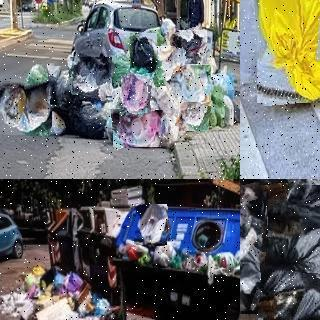Garbage: (254, 0, 320, 104), (266, 183, 320, 273), (253, 251, 320, 320), (240, 186, 269, 316), (0, 82, 53, 136), (68, 55, 114, 99), (112, 108, 162, 148), (67, 95, 112, 137), (21, 59, 59, 102), (167, 28, 209, 66), (118, 74, 153, 116), (127, 32, 160, 75), (48, 65, 81, 108), (135, 204, 168, 246), (174, 65, 211, 102), (148, 76, 180, 118), (177, 94, 211, 133), (155, 45, 185, 87)
